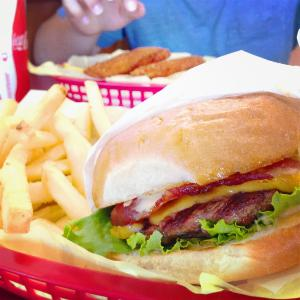cheeseburger: (115, 94, 300, 280)
fries: (3, 81, 101, 234)
